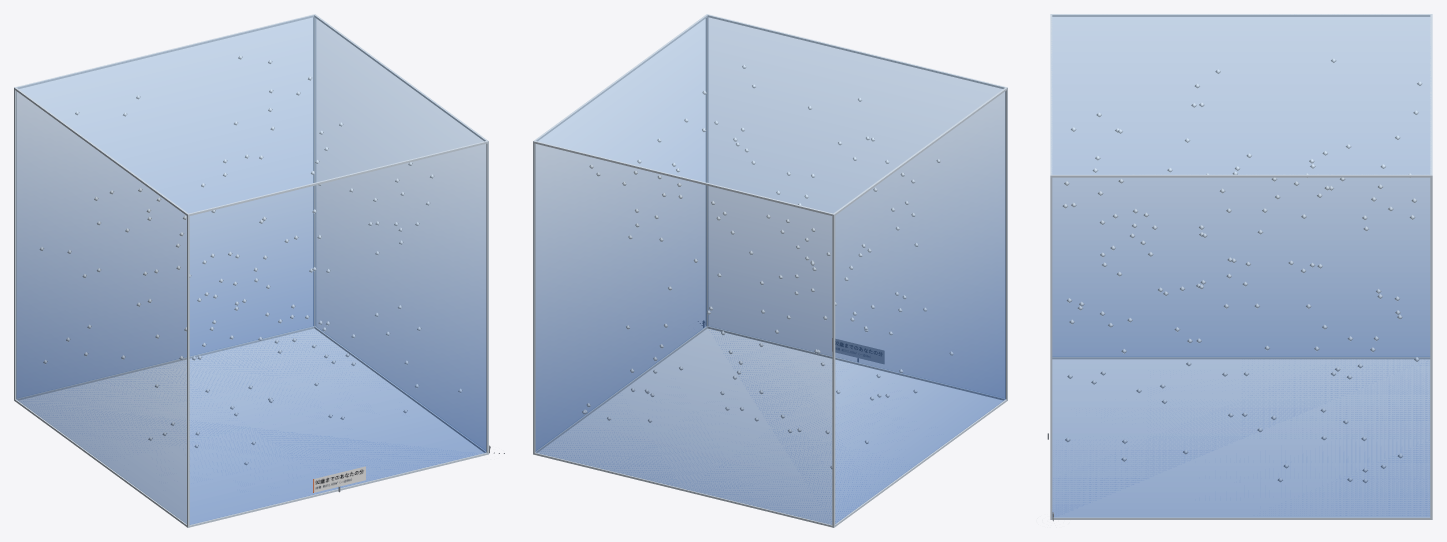
The model's file is cube_life_92.glb.
3 views of the same model, side by side, from view 1: azimuth 30°, elevation 25°; view 2: azimuth 150°, elevation 25°; view 3: azimuth 270°, elevation 25° (orthographic). The views are drawn at different scales.
Visible parts, largest first — view 1: co2, edge, dots, label; view 2: co2, edge, dots, label; view 3: co2, edge, dots.
Part boxes in pixels (x1,y1,x2,y2): co2: (16, 15, 486, 524); edge: (14, 14, 488, 527); dots: (39, 55, 462, 465); label: (313, 466, 365, 492); co2: (535, 15, 1005, 524); edge: (533, 14, 1007, 527); dots: (582, 64, 953, 468); label: (835, 339, 884, 363); co2: (1051, 15, 1430, 517); edge: (1050, 14, 1432, 519); dots: (1062, 58, 1422, 483).
Size of the model in its own units: 71.64 by 67.87 by 70.74.
8 materials, 3 textured.
